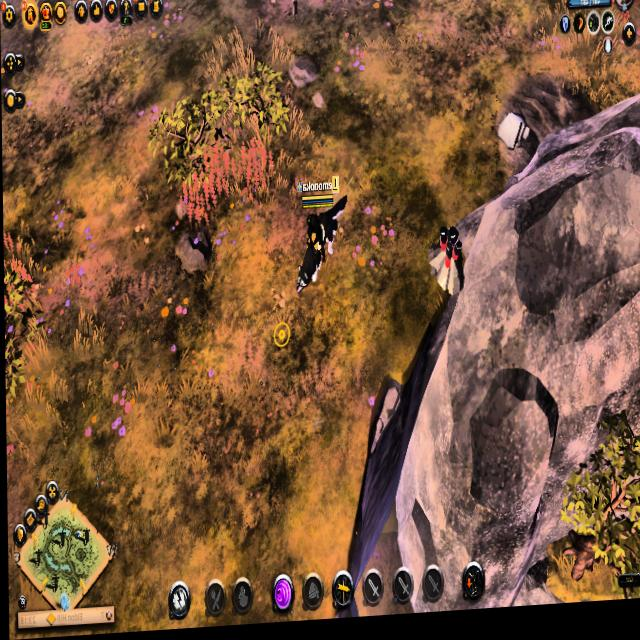ore tier 5: (426, 227, 466, 302)
rock tier 1: (497, 117, 532, 161)
